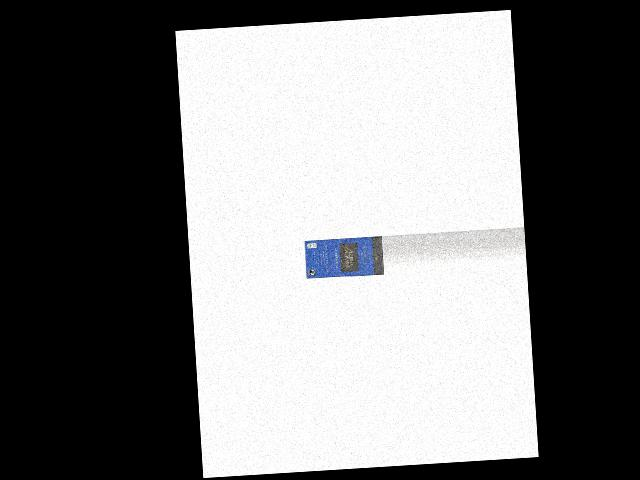chocolate: (305, 235, 384, 279)
